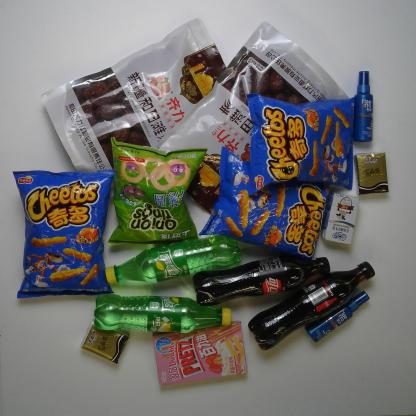Dessert: (150, 320, 248, 387)
Dried Food: (154, 20, 350, 218), (39, 17, 229, 177)
Drink: (249, 261, 374, 351), (98, 235, 242, 286), (194, 253, 330, 305), (91, 292, 230, 334)
Milk: (321, 190, 360, 245)
Personal Hygiene: (304, 290, 368, 342), (354, 68, 376, 143)
Puffed Food: (199, 147, 330, 262), (11, 168, 114, 298), (243, 91, 356, 196), (106, 134, 206, 247)
Tissue: (83, 322, 128, 362), (352, 150, 389, 198)
